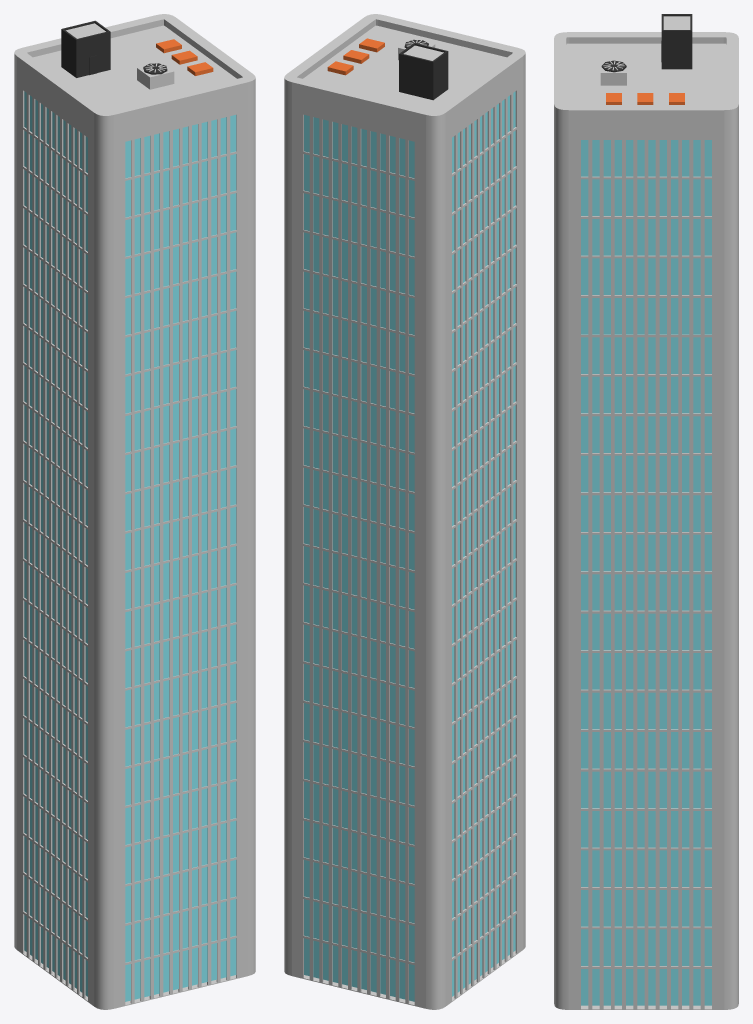
Rendered from Skyscraper.gltf.
The picture shows the model from 3 angles, left to right: view 1: azimuth 30°, elevation 25°; view 2: azimuth 150°, elevation 25°; view 3: azimuth 270°, elevation 25°; orthographic projection.
Parts seen in each view (by area): view 1: node-0; view 2: node-0; view 3: node-0.
Boxes of the visible parts, left/top/right/bottom form: node-0: left=14, top=14, right=255, bottom=1009; node-0: left=284, top=14, right=525, bottom=1009; node-0: left=554, top=14, right=738, bottom=1009.
Bounding box in the file's own units: 148 × 823 × 148.
